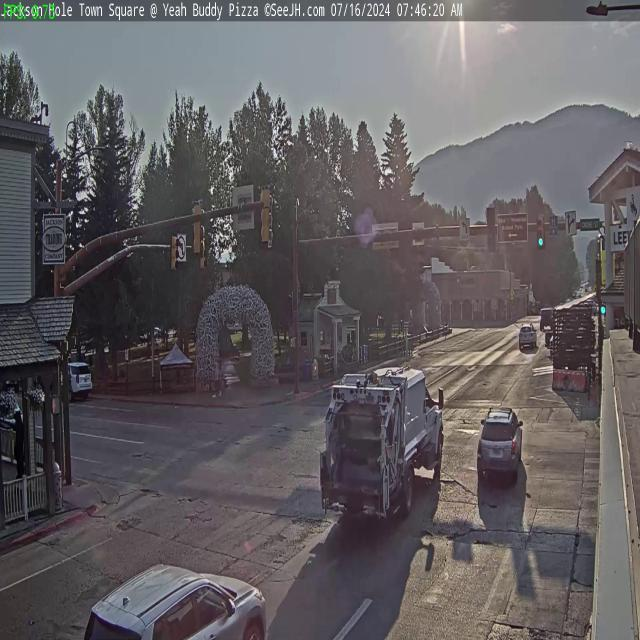suv: (77, 558, 272, 640), (476, 405, 524, 483), (62, 359, 94, 402), (518, 322, 536, 349)
traffic light: (190, 200, 203, 257), (260, 184, 272, 244), (168, 228, 178, 278), (486, 206, 496, 251), (537, 214, 545, 247)
truck: (318, 368, 442, 524)
